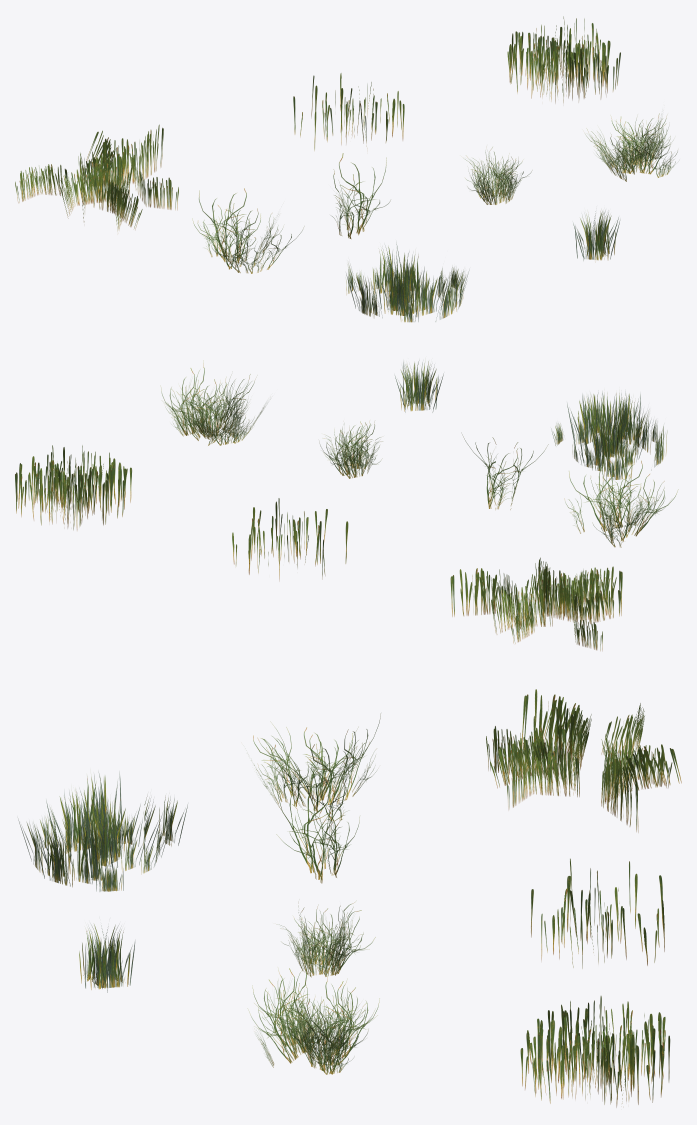
Rendered from realistic_grass_pack_for_games_free.glb.
The picture shows the model from 3 angles, top to bottom: view 1: azimuth 30°, elevation 25°; view 2: azimuth 150°, elevation 25°; view 3: azimuth 270°, elevation 25°; orthographic projection. The views are drawn at different scales.
Parts seen in each view (by area): view 1: Wheat_Grass_LowPoly_0, Wheat_Grass_High_Dense_1, Grass_B_Low_Dense_4, Grass_jumbled_Low_Dense_1_7, Grass_jumbled_Low_Spread_8, Wheat_Grass_High_Spread_2, Grass_Jumbled_Low_Dense_5, Grass_B_Low_Small_3, Grass_jumbled_Low_Spread_1_6; view 2: Wheat_Grass_LowPoly_0, Grass_B_Low_Dense_4, Wheat_Grass_High_Dense_1, Grass_jumbled_Low_Dense_1_7, Grass_jumbled_Low_Spread_8, Wheat_Grass_High_Spread_2, Grass_Jumbled_Low_Dense_5, Grass_B_Low_Small_3, Grass_jumbled_Low_Spread_1_6; view 3: Wheat_Grass_LowPoly_0, Grass_B_Low_Dense_4, Wheat_Grass_High_Dense_1, Grass_jumbled_Low_Dense_1_7, Grass_jumbled_Low_Spread_8, Wheat_Grass_High_Spread_2, Grass_Jumbled_Low_Dense_5, Grass_B_Low_Small_3, Grass_jumbled_Low_Spread_1_6.
Part boxes in pixels (box(x1,y1,x2,y2)): Wheat_Grass_LowPoly_0: box(15, 124, 178, 230); Wheat_Grass_High_Dense_1: box(507, 16, 620, 102); Grass_B_Low_Dense_4: box(346, 244, 468, 322); Grass_jumbled_Low_Dense_1_7: box(585, 113, 677, 181); Grass_jumbled_Low_Spread_8: box(192, 188, 303, 273); Wheat_Grass_High_Spread_2: box(293, 73, 404, 150); Grass_Jumbled_Low_Dense_5: box(465, 147, 531, 204); Grass_B_Low_Small_3: box(573, 211, 619, 260); Grass_jumbled_Low_Spread_1_6: box(332, 153, 390, 238); Wheat_Grass_LowPoly_0: box(450, 557, 622, 650); Grass_B_Low_Dense_4: box(551, 392, 667, 480); Wheat_Grass_High_Dense_1: box(15, 445, 131, 530); Grass_jumbled_Low_Dense_1_7: box(161, 363, 264, 445); Grass_jumbled_Low_Spread_8: box(564, 459, 678, 547); Wheat_Grass_High_Spread_2: box(232, 498, 348, 581); Grass_Jumbled_Low_Dense_5: box(320, 421, 382, 478); Grass_B_Low_Small_3: box(395, 361, 443, 412); Grass_jumbled_Low_Spread_1_6: box(462, 434, 548, 509); Wheat_Grass_LowPoly_0: box(486, 689, 681, 832); Grass_B_Low_Dense_4: box(18, 772, 187, 891); Wheat_Grass_High_Dense_1: box(520, 996, 670, 1107); Grass_jumbled_Low_Dense_1_7: box(249, 961, 379, 1074); Grass_jumbled_Low_Spread_8: box(251, 714, 380, 820); Wheat_Grass_High_Spread_2: box(531, 858, 664, 968); Grass_Jumbled_Low_Dense_5: box(280, 902, 375, 977); Grass_B_Low_Small_3: box(79, 924, 134, 992); Grass_jumbled_Low_Spread_1_6: box(276, 772, 359, 883).
Bounding box in the file's own units: 2.9 × 0.4033 × 2.18.
5 materials, 5 textured.
